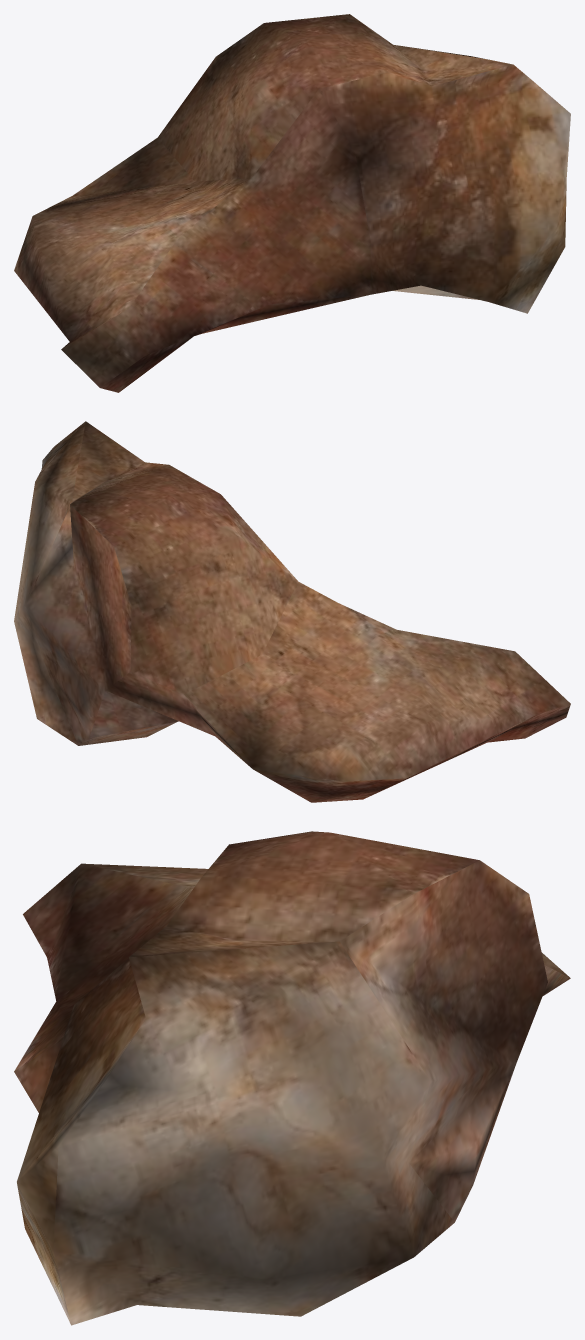
Rendered from stone_01.glb.
3 views of the same model, one above another, from view 1: azimuth 30°, elevation 25°; view 2: azimuth 150°, elevation 25°; view 3: azimuth 270°, elevation 25° (orthographic). The views are drawn at different scales.
Parts seen in each view (by area): view 1: stone_01; view 2: stone_01; view 3: stone_01.
Part boxes in pixels (bbox=[...]): stone_01: bbox=[14, 14, 570, 392]; stone_01: bbox=[14, 421, 570, 802]; stone_01: bbox=[14, 831, 570, 1325].
Bounding box in the file's own units: 0.1462 × 0.0698 × 0.0875.
Materials: 1 (1 with a texture image).
